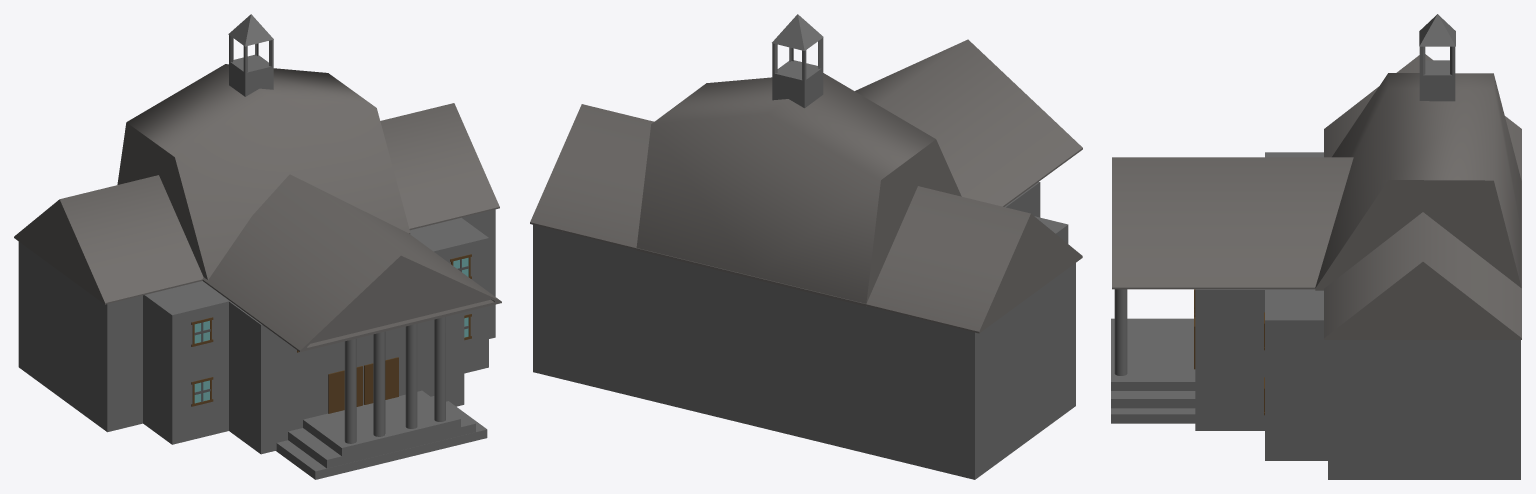
Rendered from CityHall.fbx.
The picture shows the model from 3 angles, left to right: view 1: azimuth 30°, elevation 25°; view 2: azimuth 150°, elevation 25°; view 3: azimuth 270°, elevation 25°; orthographic projection. The views are drawn at different scales.
Parts seen in each view (by area): view 1: City_Hall; view 2: City_Hall; view 3: City_Hall.
Boxes of the visible parts, left/top/right/bottom form: City_Hall: left=14, top=14, right=501, bottom=479; City_Hall: left=530, top=14, right=1082, bottom=479; City_Hall: left=1111, top=14, right=1521, bottom=479.
Size of the model in its own units: 10.19 by 8.26 by 8.45.
